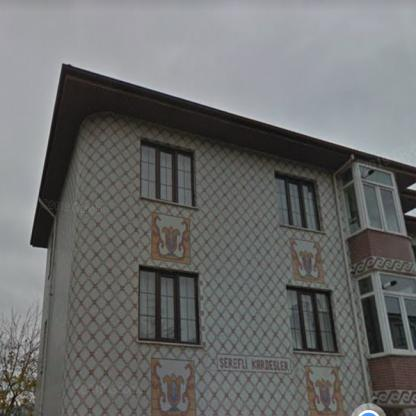window: (358, 273, 416, 355), (138, 269, 197, 343), (341, 163, 402, 234), (141, 143, 194, 206), (287, 289, 336, 352), (275, 176, 319, 230)
